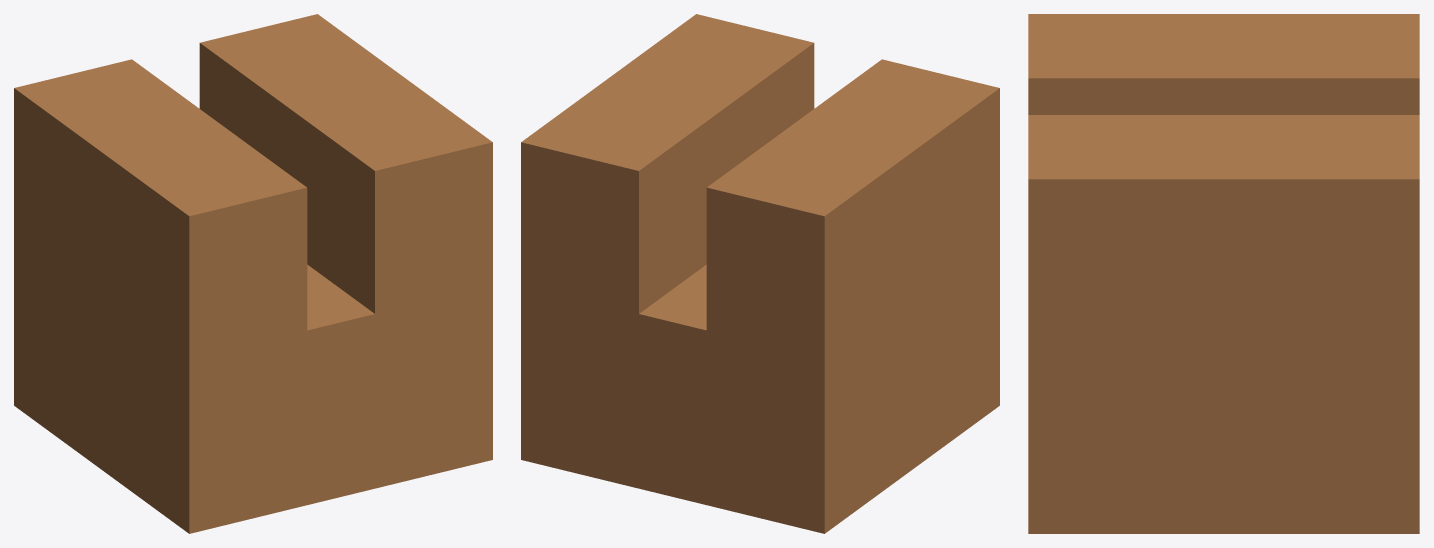
Rendered from Thick_Straight_Model.fbx.
The picture shows the model from 3 angles, left to right: view 1: azimuth 30°, elevation 25°; view 2: azimuth 150°, elevation 25°; view 3: azimuth 270°, elevation 25°; orthographic projection. The views are drawn at different scales.
Visible parts, largest first — view 1: Cube.001; view 2: Cube.001; view 3: Cube.001.
Part boxes in pixels (x1,y1,x2,y2): Cube.001: (14,14,492,533); Cube.001: (521,14,999,533); Cube.001: (1028,14,1419,533).
Bounding box in the file's own units: 100 × 100 × 100.
